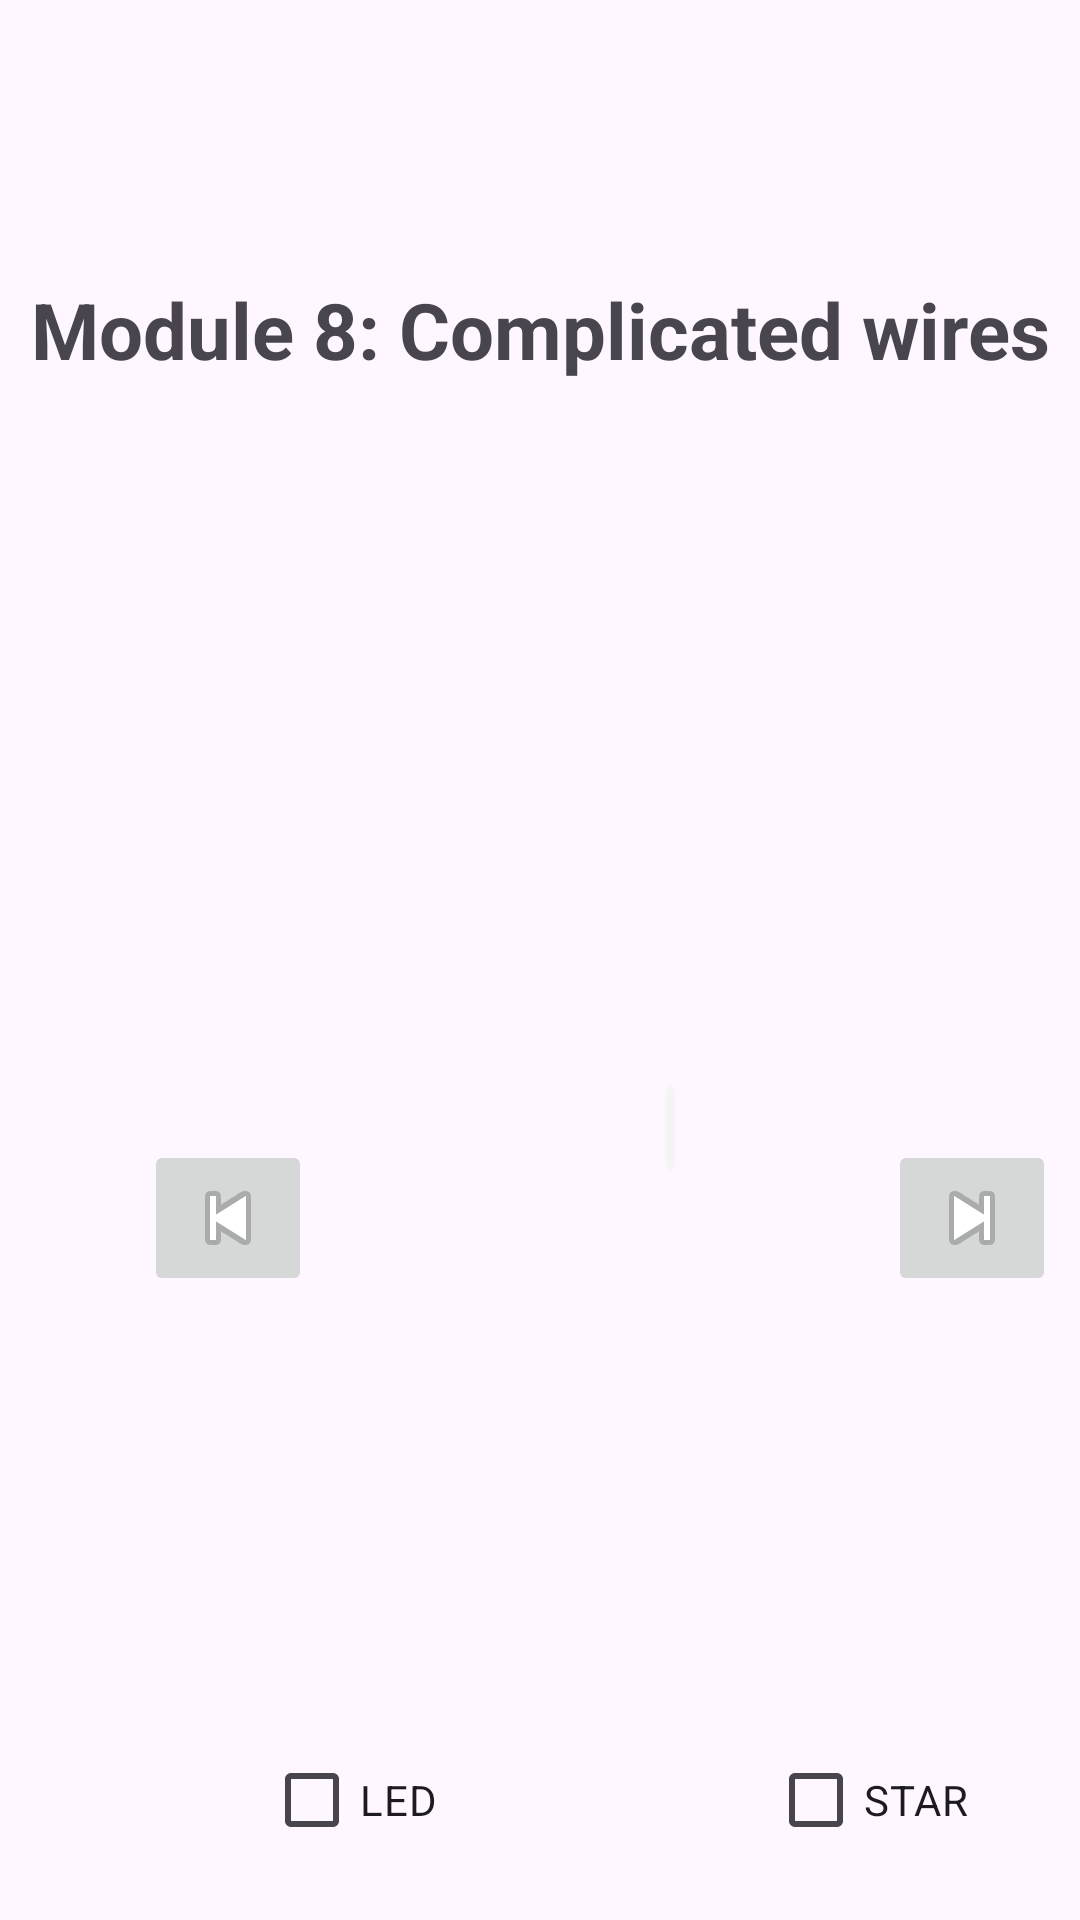

Point at icon controls on the screen. Image size 1080w x 1920h, points as (x=x, y=y).
next: (x=972, y=1218)
previous: (x=228, y=1218)
